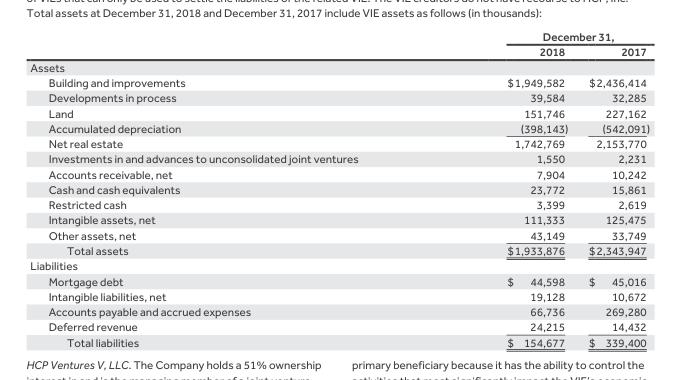table: (29, 29, 649, 348)
table column: (29, 29, 432, 348), (432, 29, 577, 348), (577, 29, 649, 348)
table column header: (29, 29, 649, 59)
table projected row header: (29, 59, 649, 74), (29, 257, 649, 272)
table row: (29, 43, 649, 59), (29, 104, 649, 120), (29, 165, 649, 181), (29, 211, 649, 227), (29, 272, 649, 288), (29, 318, 649, 334), (29, 59, 649, 74), (29, 74, 649, 89), (29, 89, 649, 104), (29, 120, 649, 135), (29, 135, 649, 150), (29, 150, 649, 165), (29, 181, 649, 196), (29, 196, 649, 211), (29, 227, 649, 242), (29, 242, 649, 257), (29, 257, 649, 272), (29, 288, 649, 303), (29, 303, 649, 318), (29, 29, 649, 43), (29, 334, 649, 348)
table spanning cell: (432, 29, 649, 43)
